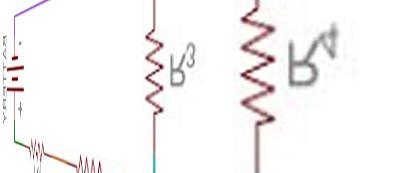resistor: (229, 1, 273, 132), (133, 26, 169, 117), (67, 148, 112, 171), (21, 137, 50, 158)
